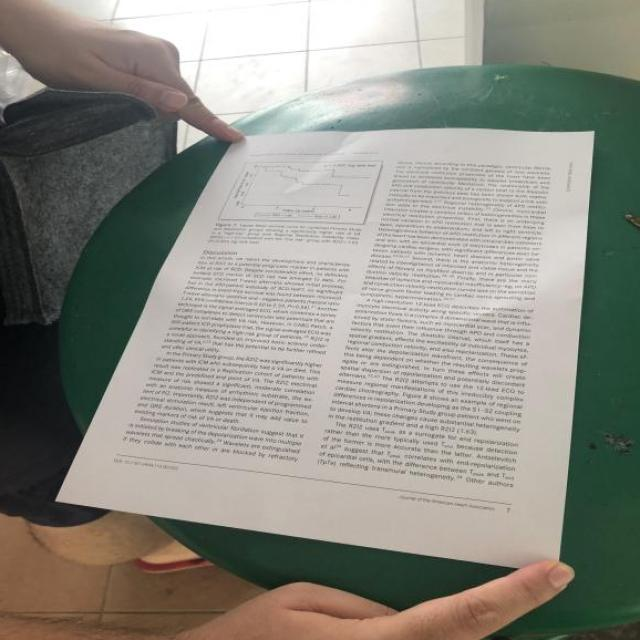kertas: (56, 85, 601, 571)
